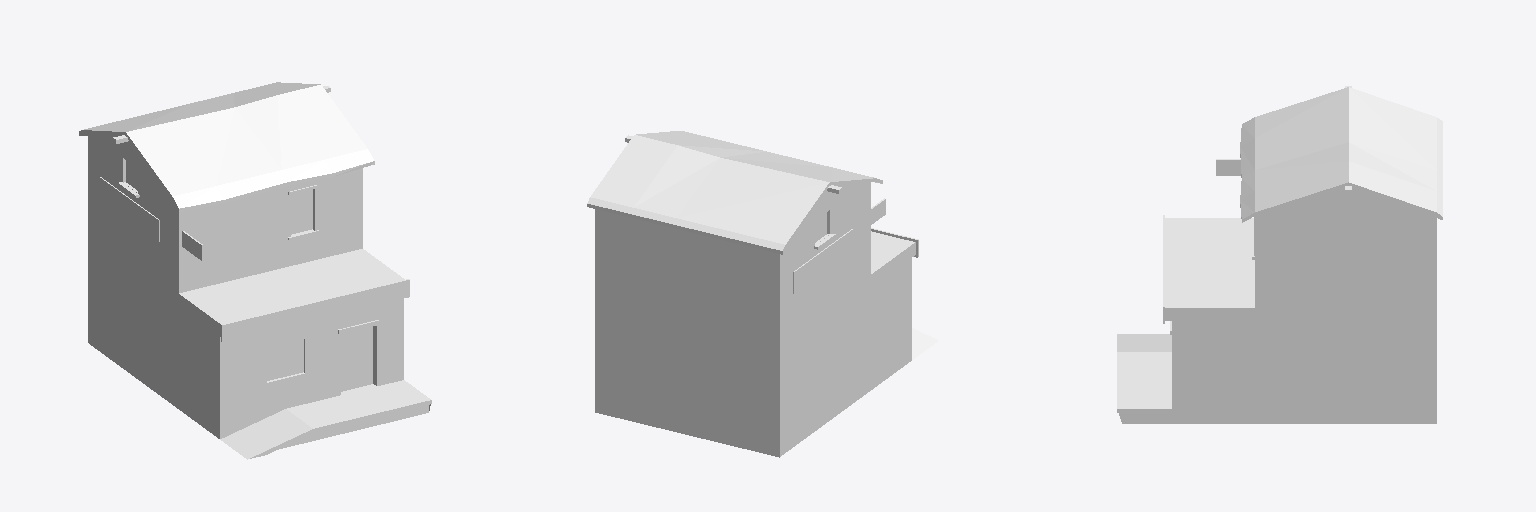
Rendered from BuildingI.obj.
3 views of the same model, side by side, from view 1: azimuth 30°, elevation 25°; view 2: azimuth 150°, elevation 25°; view 3: azimuth 270°, elevation 25° (orthographic).
Visible parts, largest first — view 1: BuildingI; view 2: BuildingI; view 3: BuildingI.
Part boxes in pixels (x1,y1,x2,y2): BuildingI: (79,82,431,459); BuildingI: (587,131,938,457); BuildingI: (1117,86,1442,423).
Bounding box in the file's own units: 283 × 309 × 373.